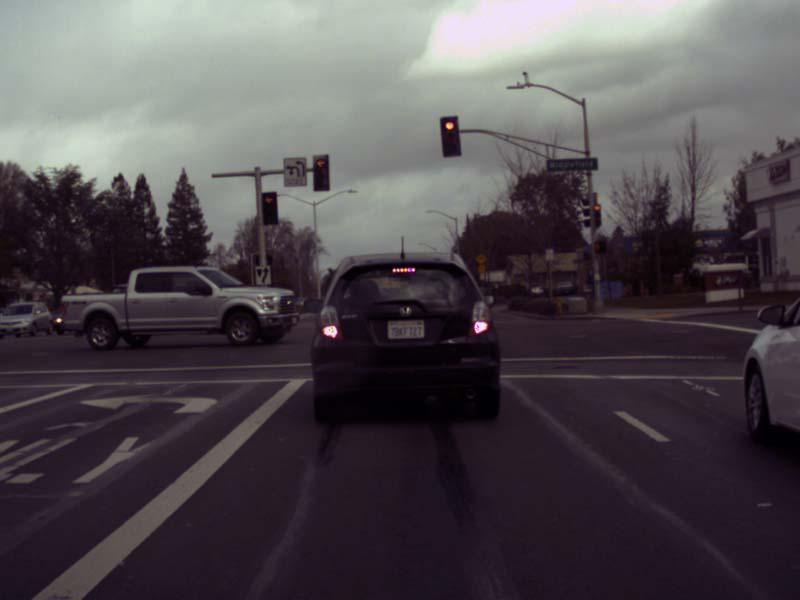Red: (439, 117, 460, 155), (312, 154, 328, 189), (261, 192, 277, 224), (593, 203, 601, 226)
